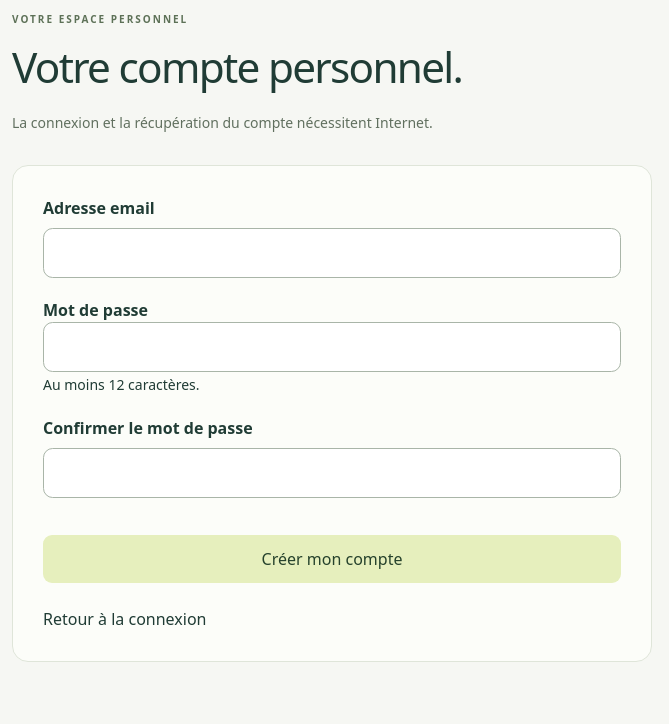
Test: authentification › valide la confirmation avant de demander une inscription
Type "test@example.test" into the field labelled "Adresse email" at (332, 253), box [43, 228, 621, 278]
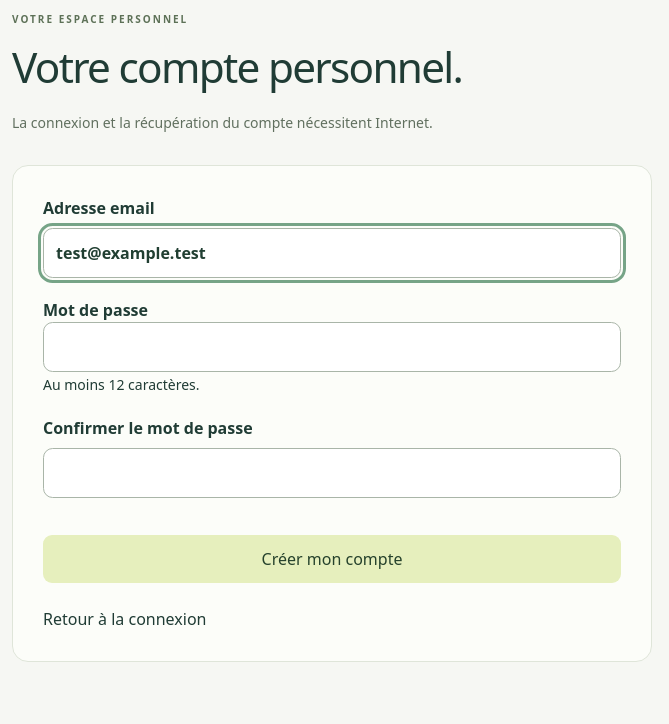
Type "phrase-secrete-123" into the password field labelled "Mot de passe" at (332, 347), box [43, 322, 621, 372]
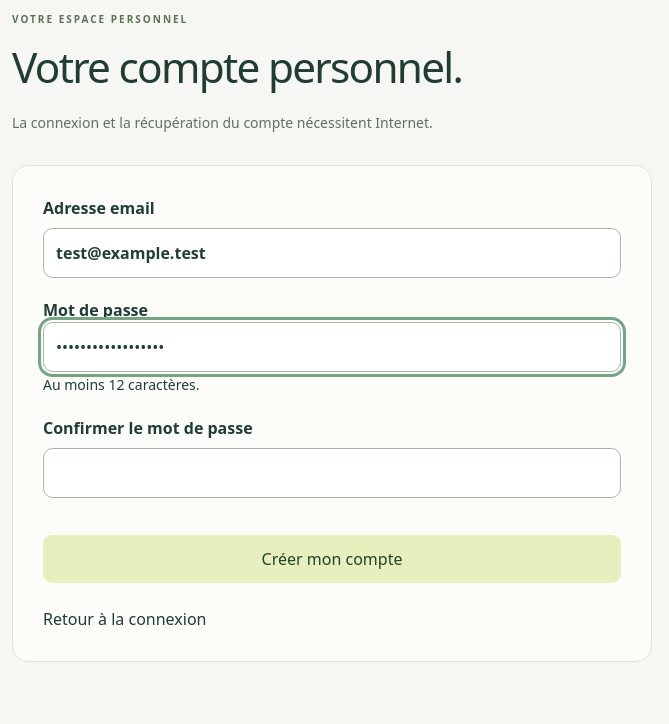
Type "autre-phrase-123" into the password field labelled "Confirmer le mot de passe" at (332, 473), box [43, 448, 621, 498]
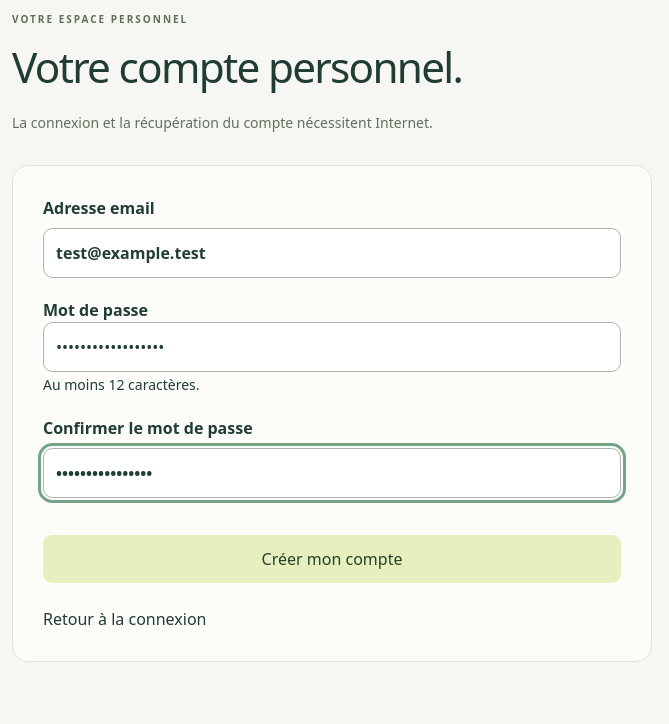
Click the button "Créer mon compte" at (332, 559), box [43, 535, 621, 583]
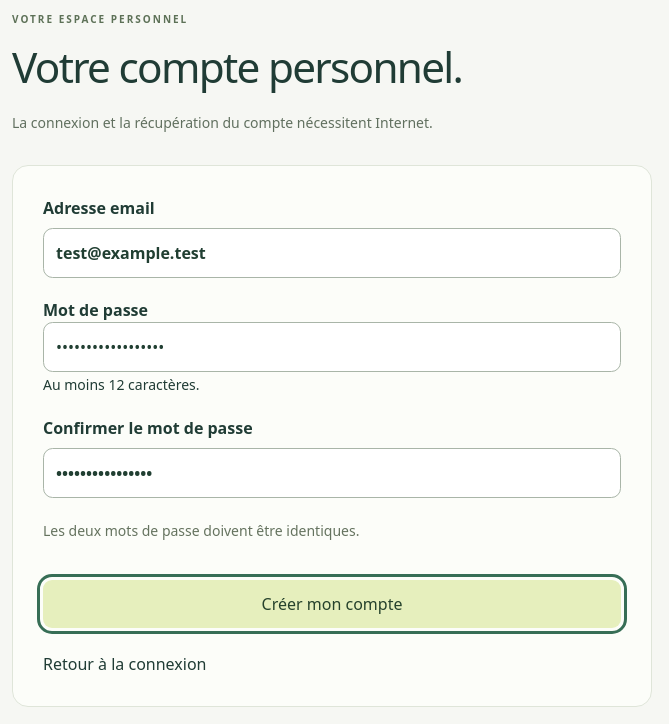
Now the message shows "identiques", box [43, 521, 359, 540]
